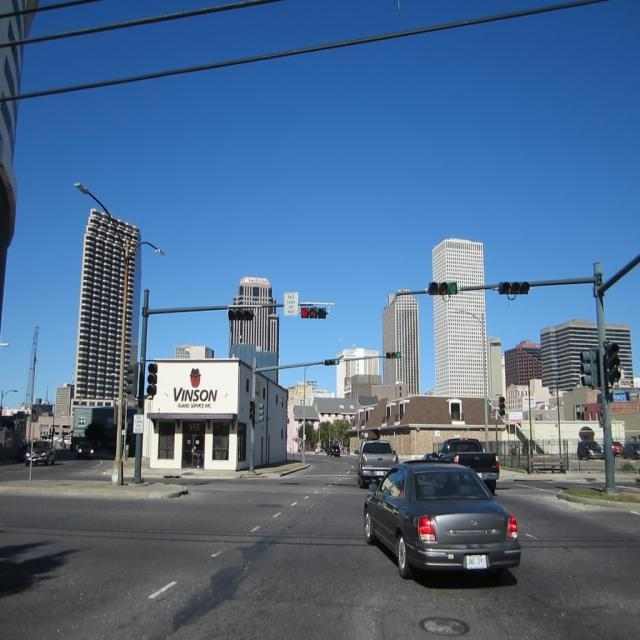off traffic light: (579, 352, 600, 387), (497, 282, 529, 295), (227, 310, 253, 320)
traffic light: (604, 343, 620, 382), (428, 282, 456, 295), (147, 363, 157, 395), (301, 308, 326, 319), (386, 352, 400, 359), (325, 359, 339, 365)
